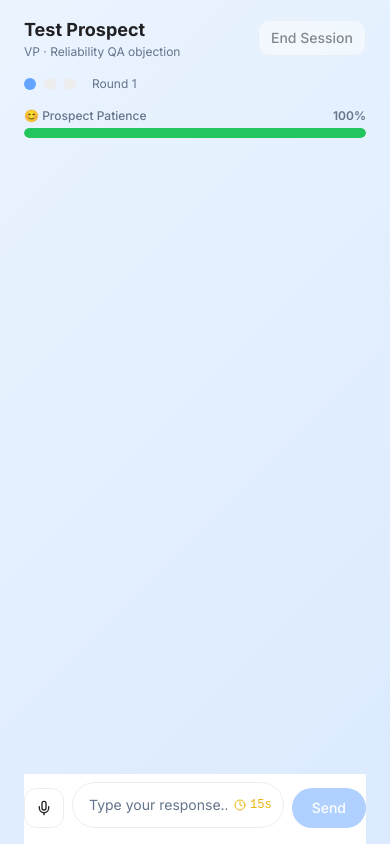
Test: GamifiedRoleplay Phase 2A reliability › keeps a failed turn uncounted, uncharged, ordered, and retryable with the same turn id
Step 1. Type "Here is concrete value for your team." into the field with placeholder "Type your response…" → (178, 805), box x1=72 y1=782 x2=284 y2=828
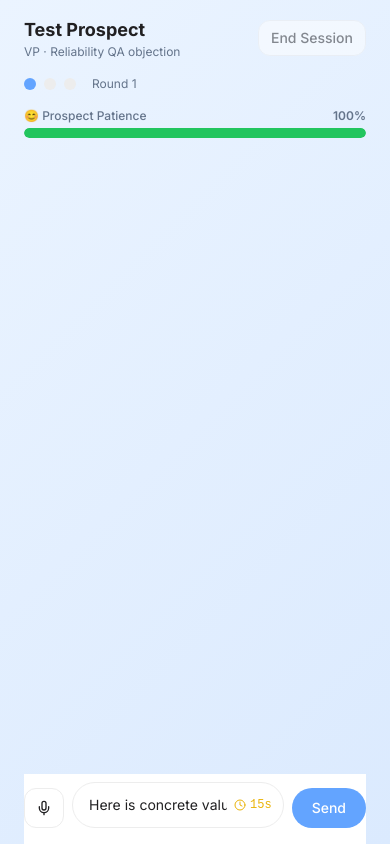
Step 2. Click the button "Send" → (329, 808), box x1=292 y1=788 x2=366 y2=828
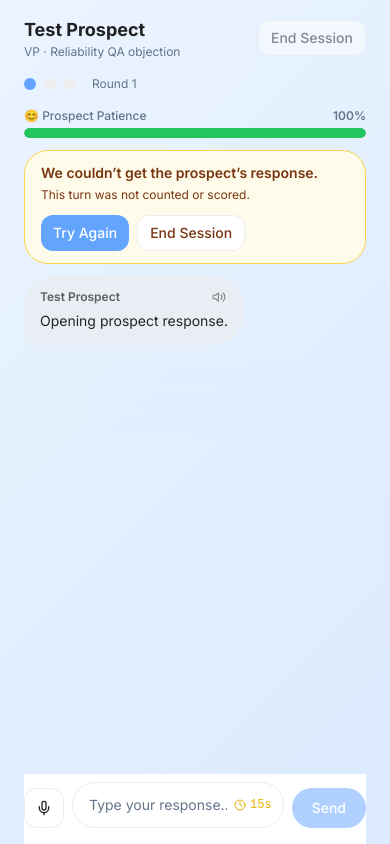
Expected: the text "Round 1" is shown, x1=92 y1=76 x2=136 y2=92
Now the text "This turn was not counted or scored." is shown, box x1=41 y1=187 x2=250 y2=202
Step 3. Click the button "Try Again" → (85, 233), box x1=41 y1=215 x2=129 y2=251
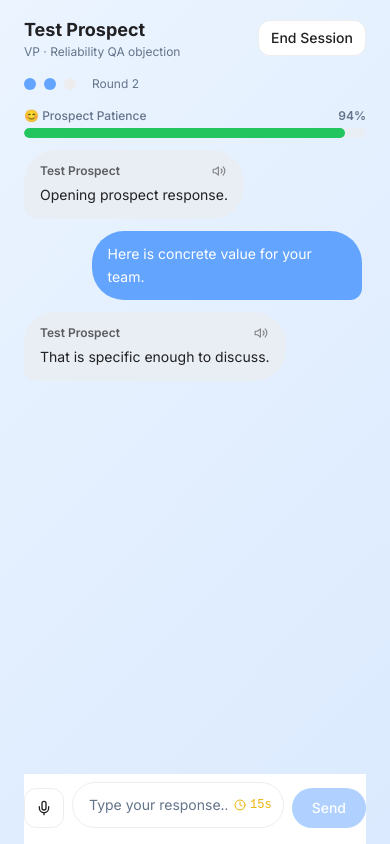
Now the text "That is specific enough to discuss." is shown, box x1=40 y1=348 x2=270 y2=365
Now the text "Here is concrete value for your team." is shown once, box x1=92 y1=231 x2=362 y2=300
Now the text "Round 2" is shown, box x1=92 y1=76 x2=139 y2=92
